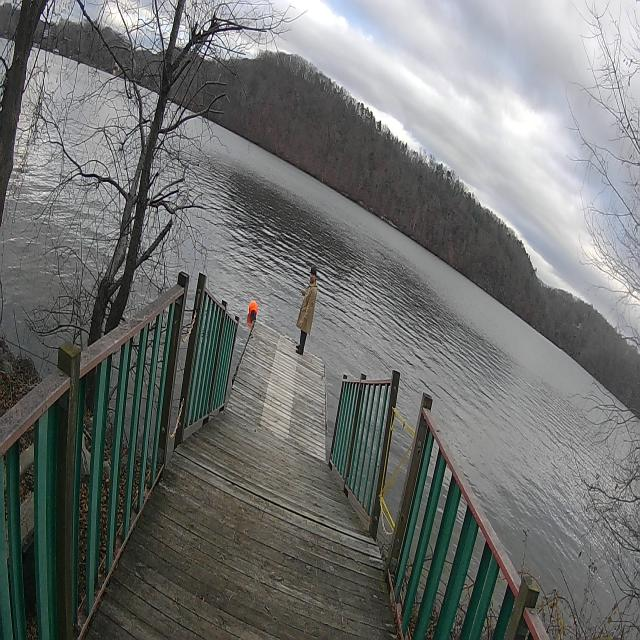Buoy: (242, 283, 262, 337)
